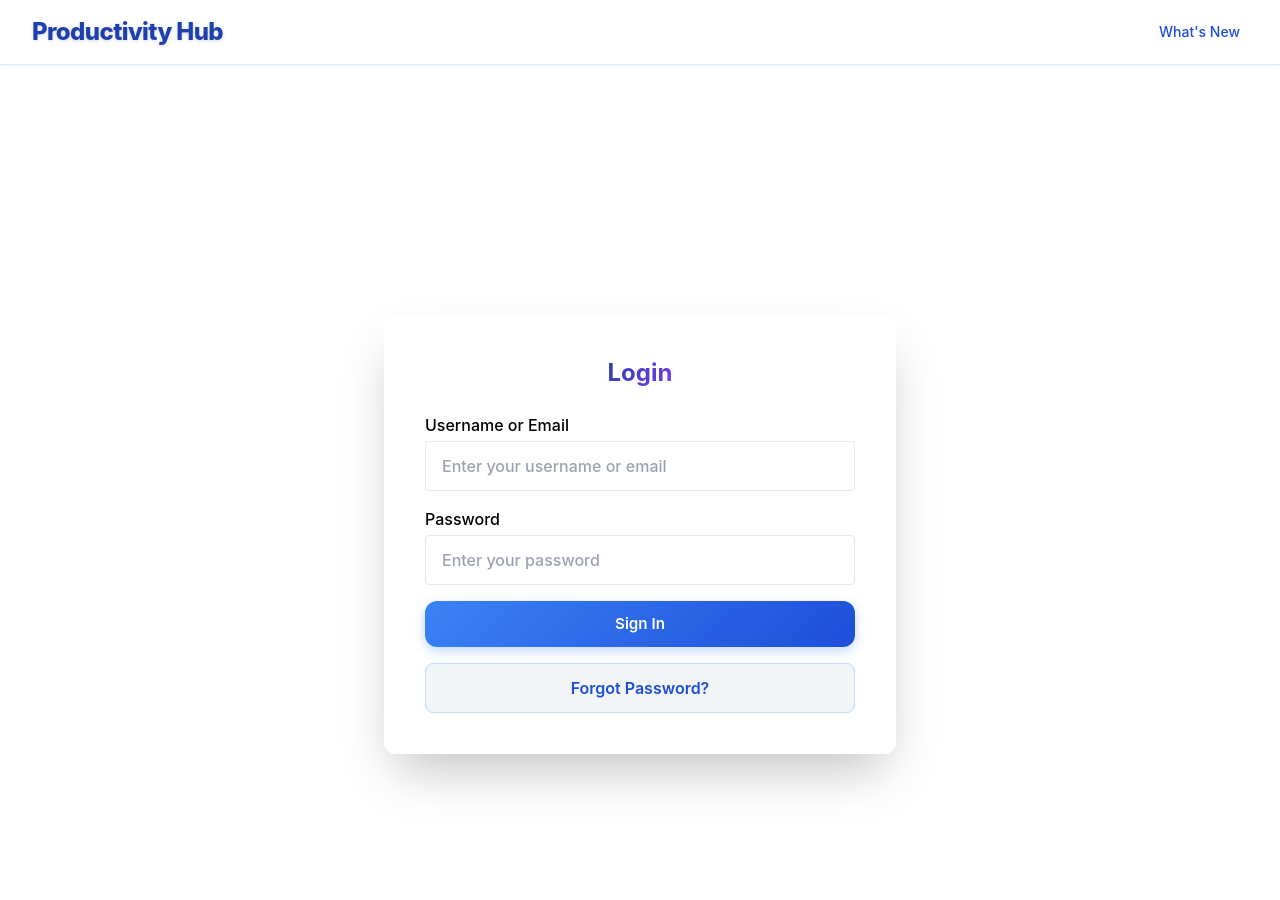
Scenario: LoginPage › displays error on login failure
Type "wronguser" into the field labelled "Username or Email" at (640, 466), box 425,441 -> 855,491
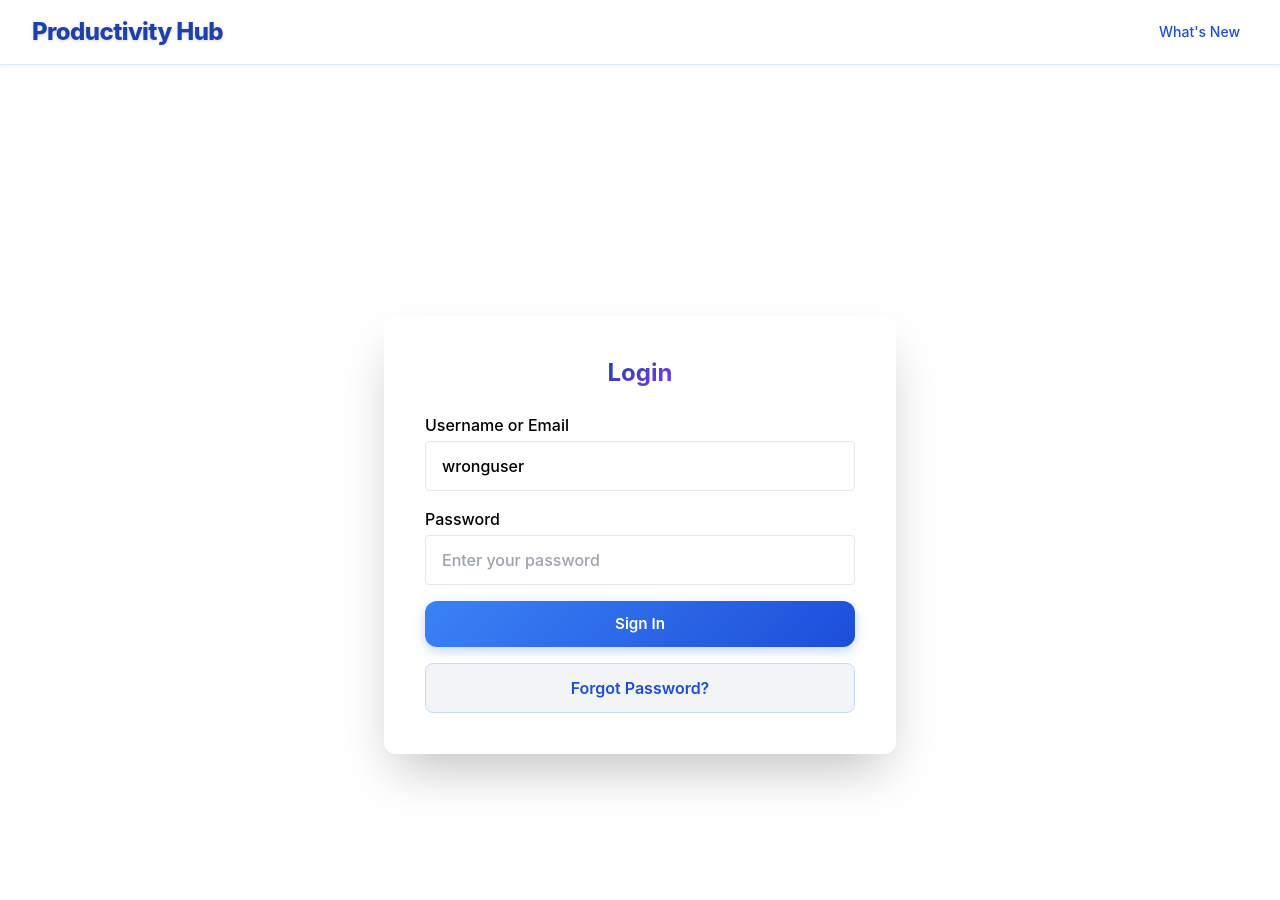
Type "wrongpass" into the password field labelled "Password" at (640, 560), box 425,535 -> 855,585
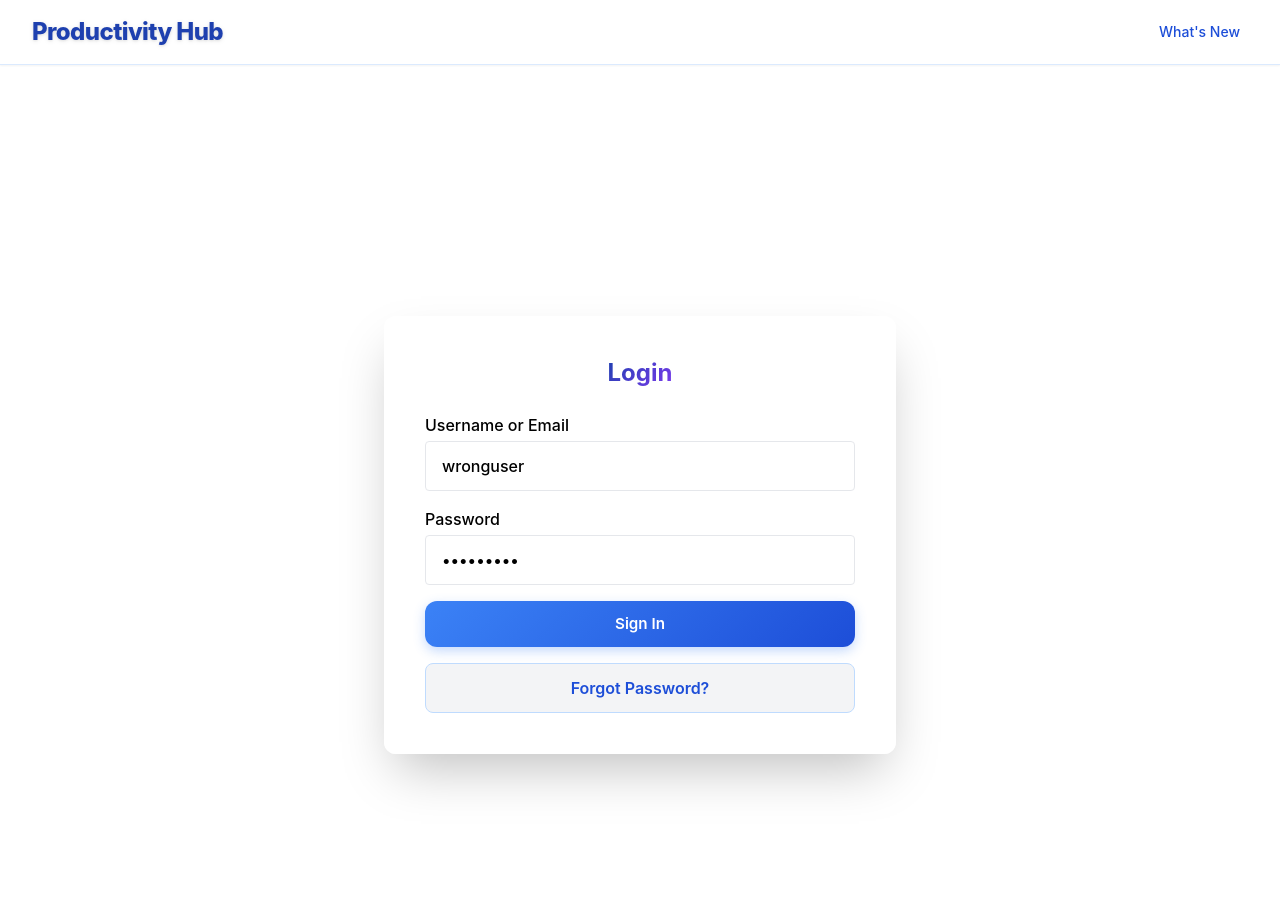
Click the button "Sign In" at (640, 624), box 425,601 -> 855,647
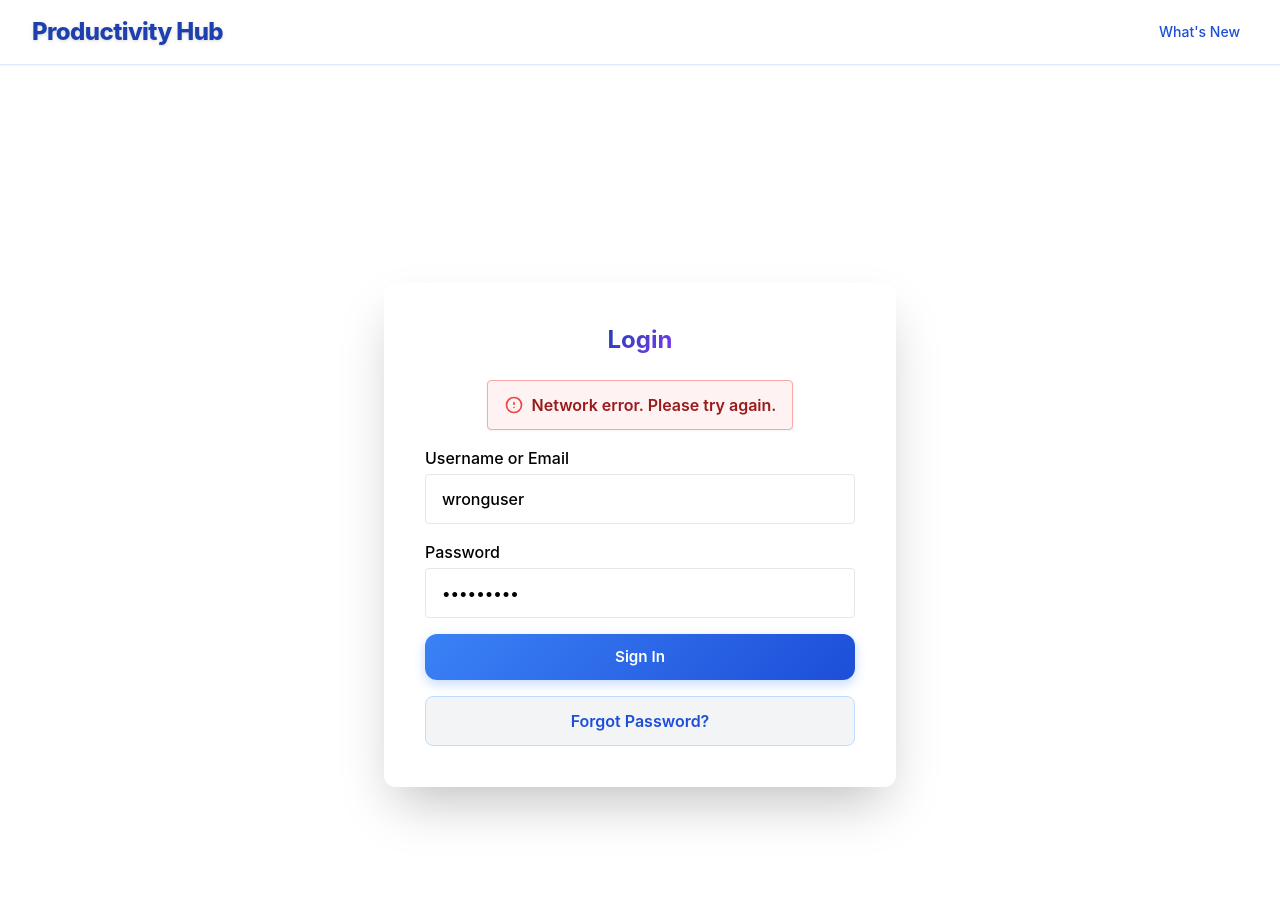
Expected: the text "Network error. Please try again." is shown, 532,393 -> 776,417
